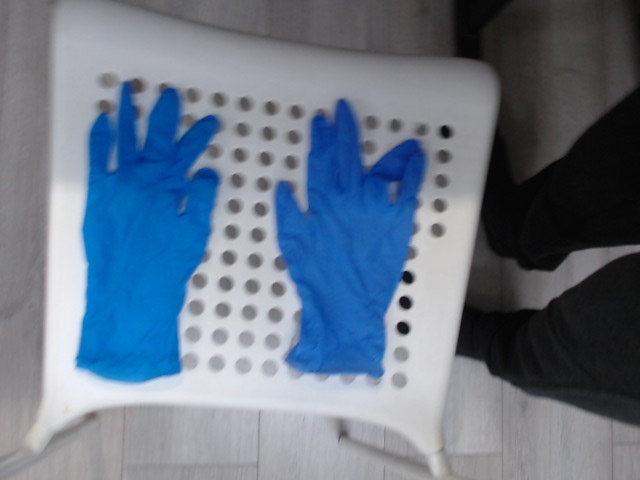medical_glove: (72, 81, 218, 381), (278, 107, 423, 378)
